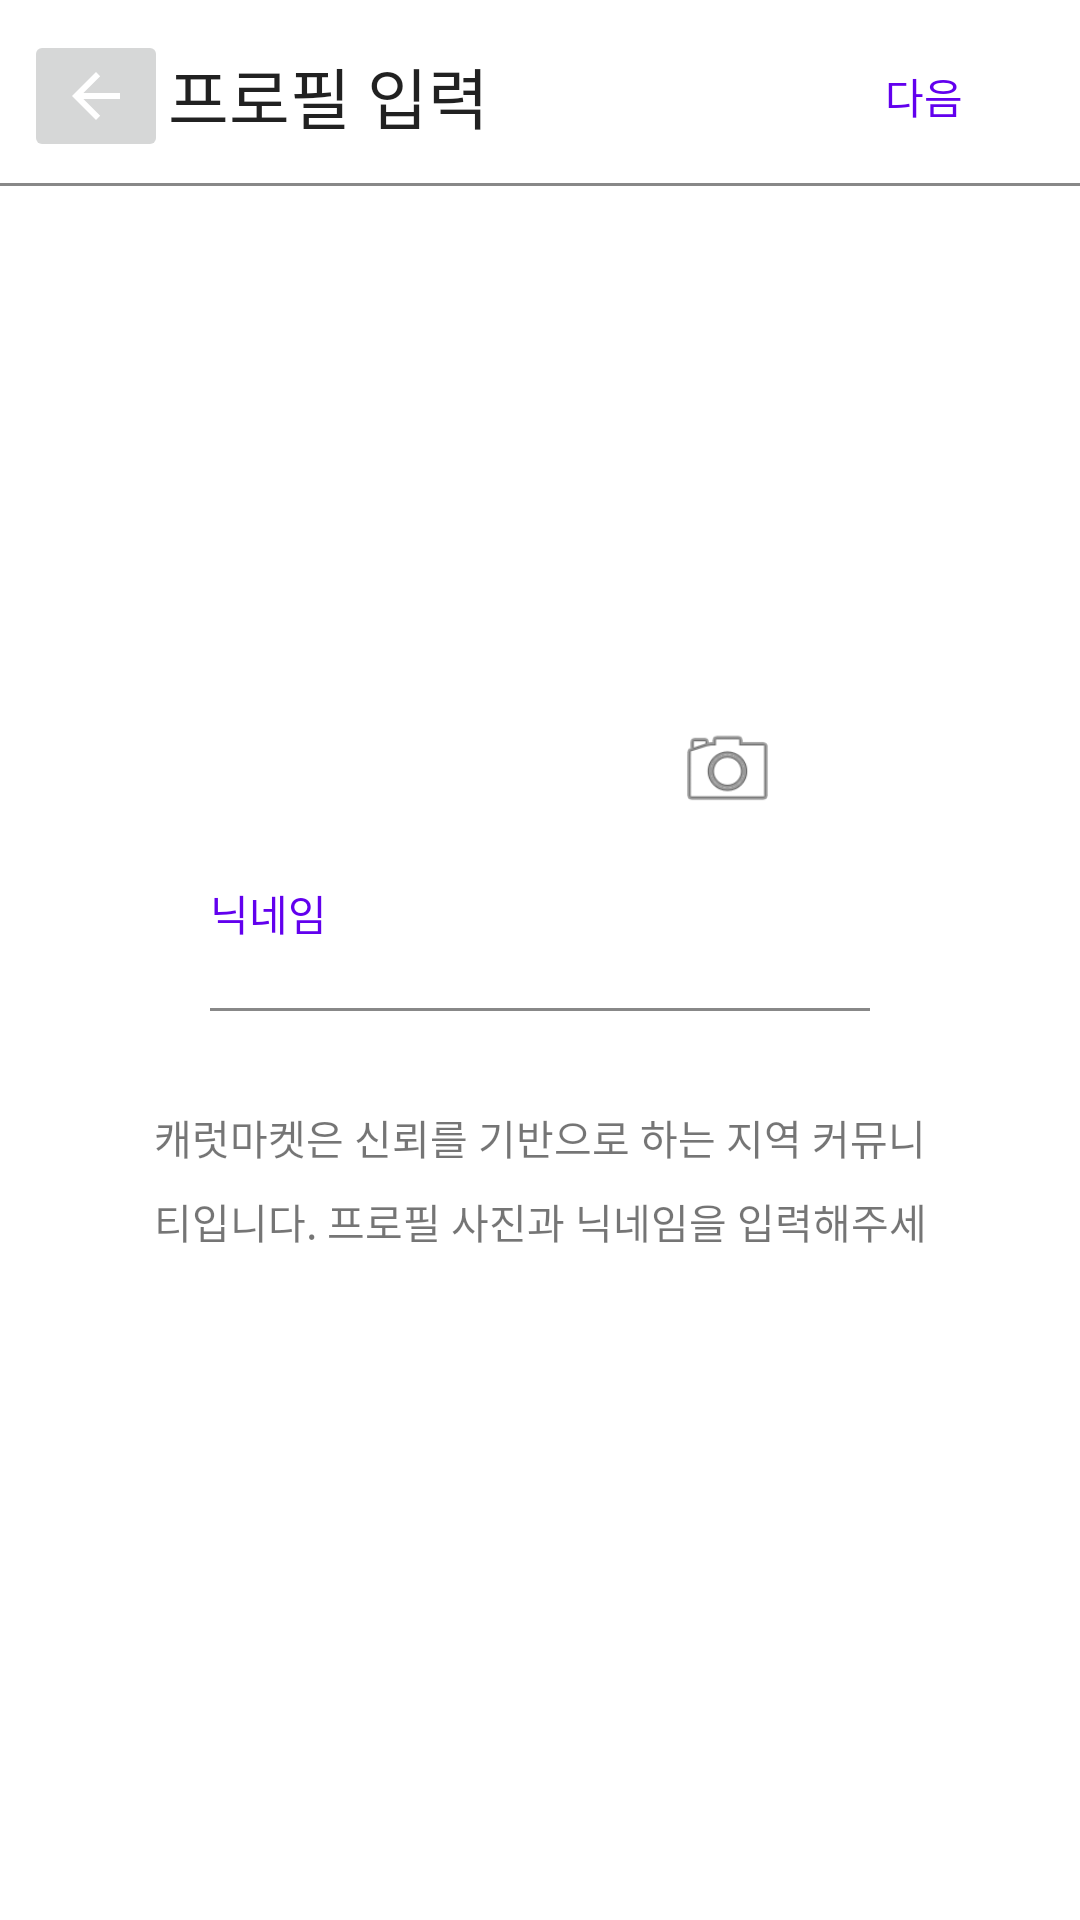

Named icons in this screenshot (1080px x 1920px) and their bounding boxes, (x1, y1, x2, y2):
camera: (687, 735, 768, 800)
